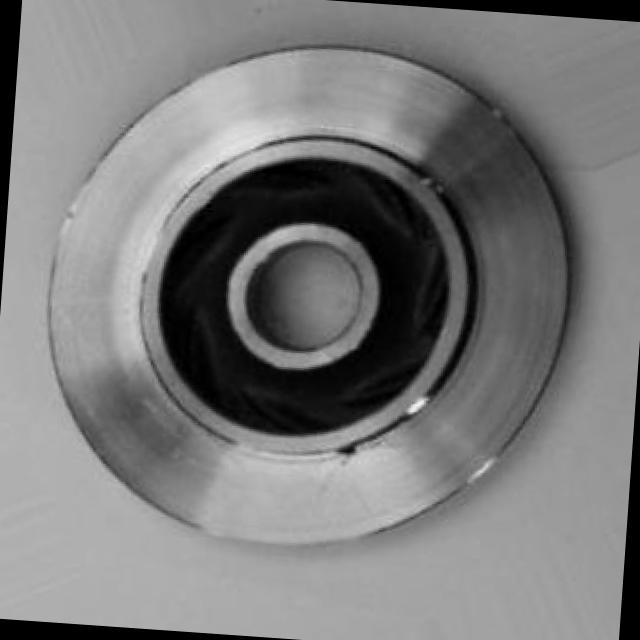Defect: (334, 438, 363, 464)
